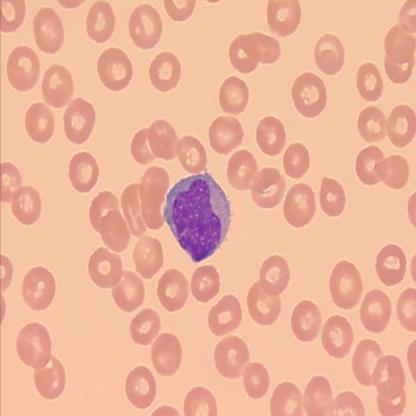Atypical lymphocyte: (162, 170, 232, 263)
